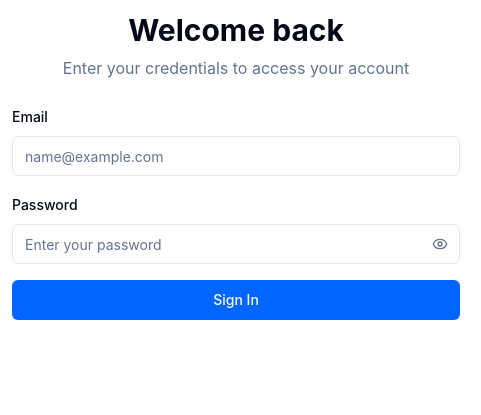
Test: 2.1-COMPONENT: LoginForm Component › AuthContext Integration › [P0] 2.1-COMPONENT-012: should display error message when login fails
Note: User submits form with invalid credentials
Type "wrong@test.com" into the field labelled "Email" at (236, 156), box [12,136,460,176]
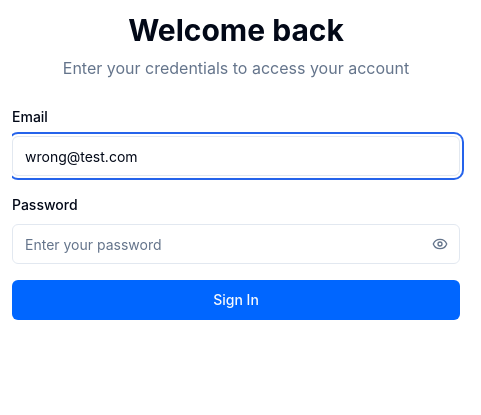
Type "wrongpassword" into the password field labelled "Password" at (236, 244), box [12,224,460,264]
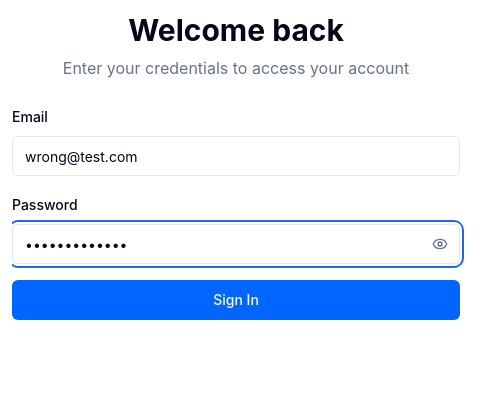
Click the button "Sign In" at (236, 300), box [12,280,460,320]
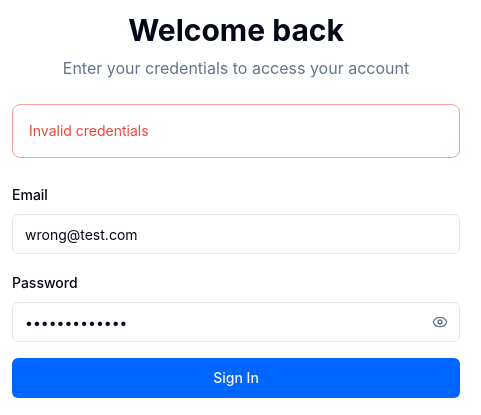
Check: the text "Invalid credentials" is shown, box [29,122,149,139]
